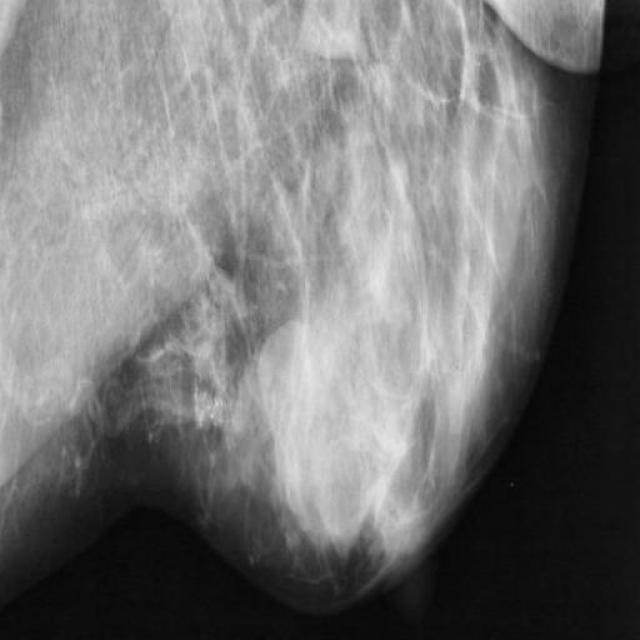cancer: (263, 144, 317, 298)
